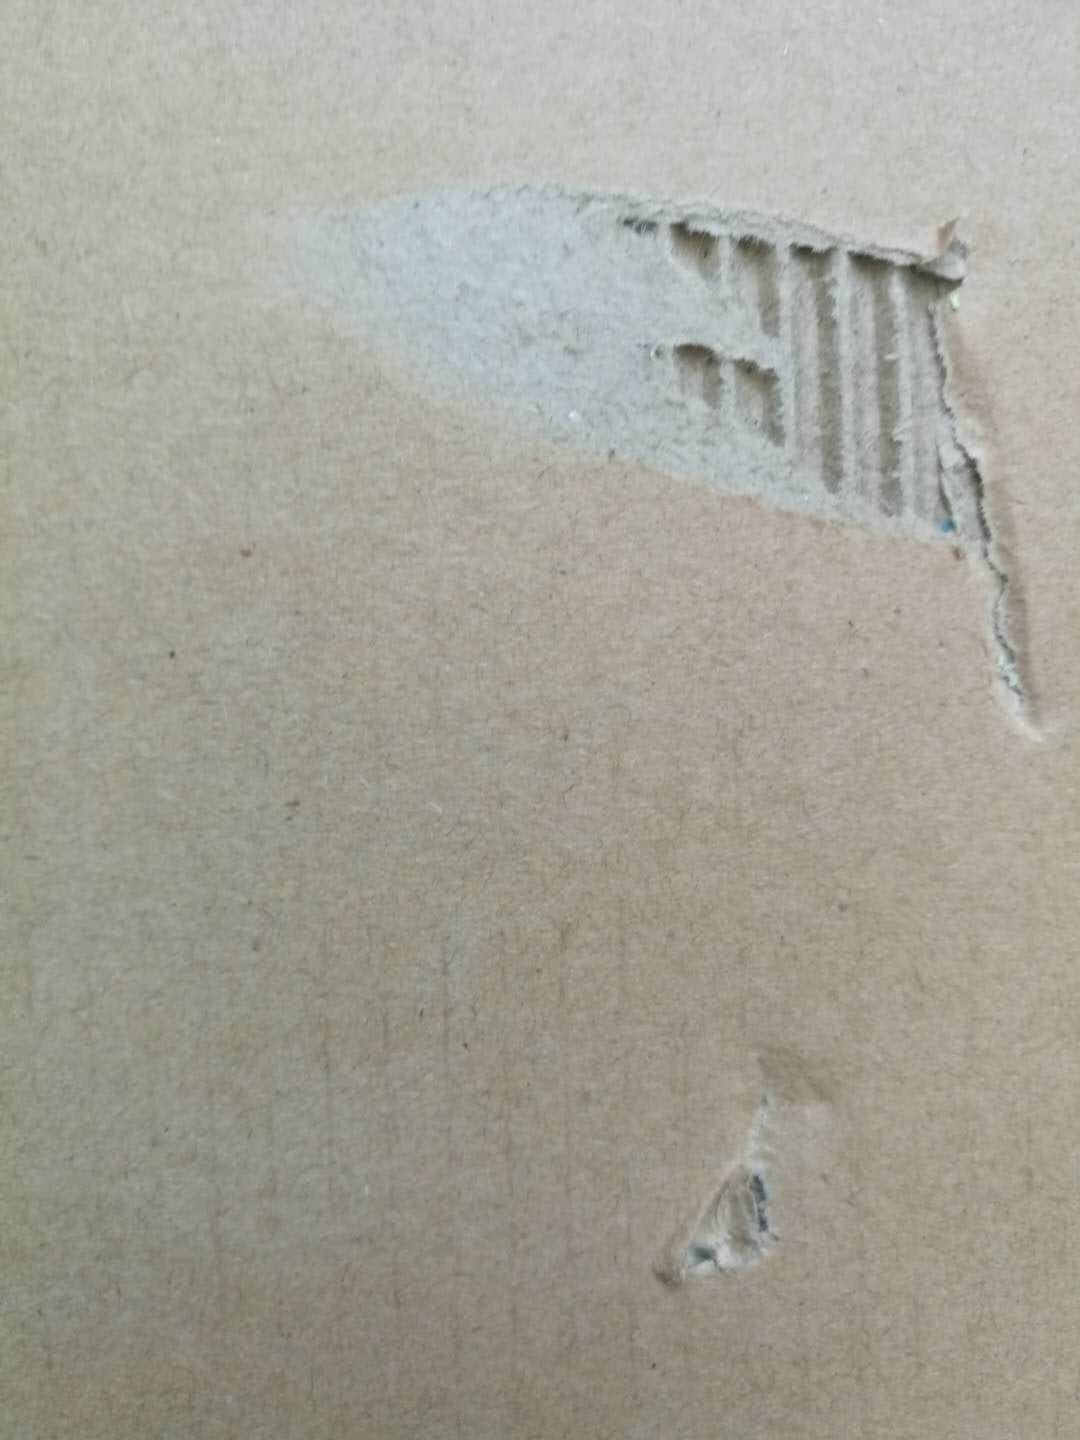defect: (254, 138, 1080, 769), (634, 1022, 877, 1307)
